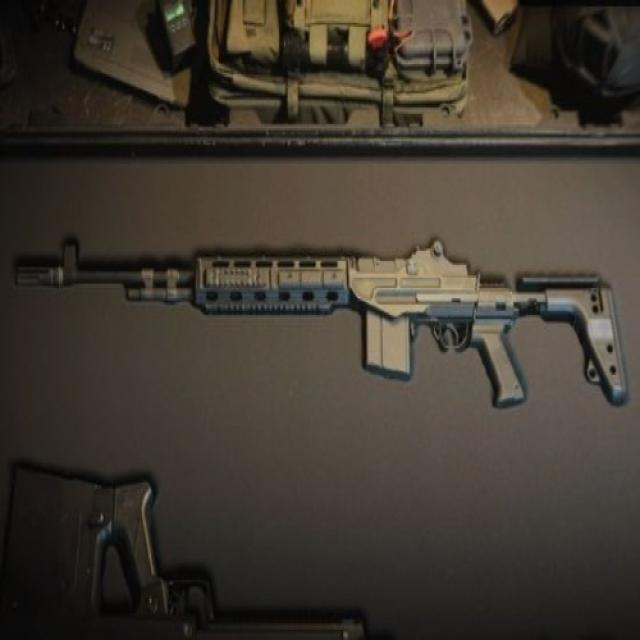Gun: (35, 210, 627, 426)
